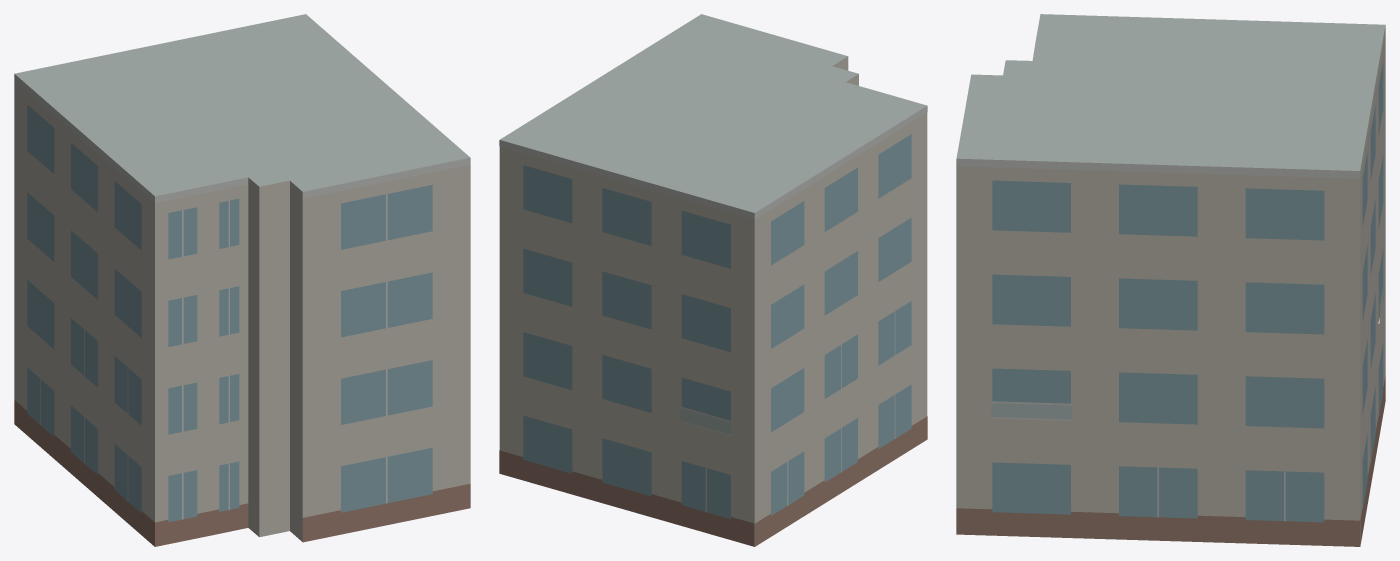
File: residential-d4e3aaf7-0169-47cd-9858-62e68a5fff51.glb
3 views of the same model, side by side, from view 1: azimuth 30°, elevation 25°; view 2: azimuth 150°, elevation 25°; view 3: azimuth 270°, elevation 25° (orthographic). The views are drawn at different scales.
Visible parts, largest first — view 1: residential-d4e3aaf7-0169-47cd-9858-62e68a5fff51.tmp; view 2: residential-d4e3aaf7-0169-47cd-9858-62e68a5fff51.tmp; view 3: residential-d4e3aaf7-0169-47cd-9858-62e68a5fff51.tmp.
Part boxes in pixels (left/top/right/bottom): residential-d4e3aaf7-0169-47cd-9858-62e68a5fff51.tmp: left=14, top=14, right=470, bottom=546; residential-d4e3aaf7-0169-47cd-9858-62e68a5fff51.tmp: left=499, top=14, right=927, bottom=546; residential-d4e3aaf7-0169-47cd-9858-62e68a5fff51.tmp: left=956, top=14, right=1385, bottom=546.
Bounding box in the file's own units: 10.94 × 12.2 × 12.64.
